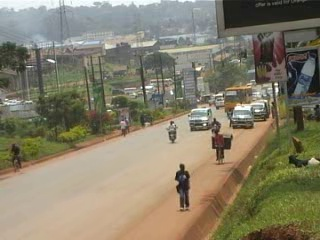Car: (211, 95, 226, 109)
Motorcycle: (165, 118, 178, 144), (209, 115, 220, 136)
